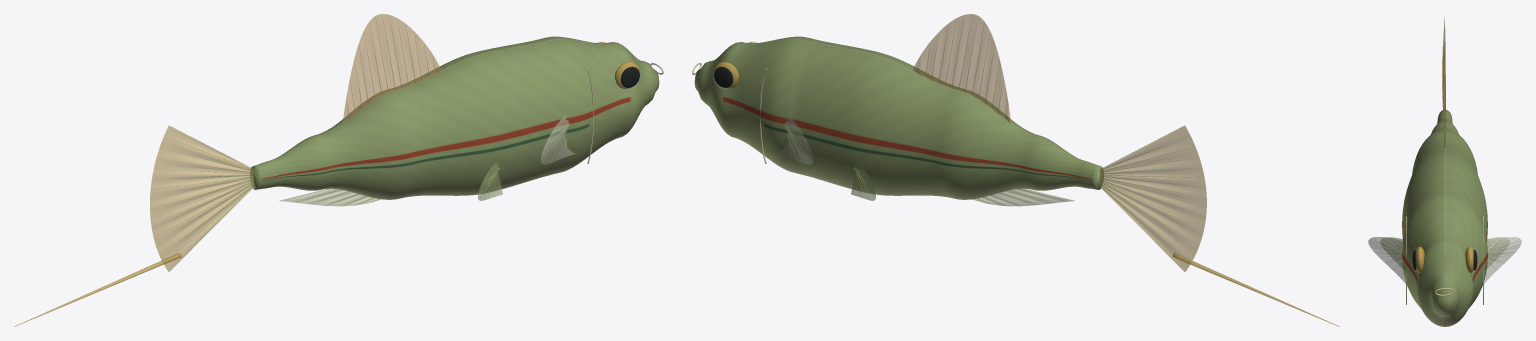
Rendered from swordtail-desktop.glb.
The picture shows the model from 3 angles, left to right: view 1: azimuth 30°, elevation 25°; view 2: azimuth 150°, elevation 25°; view 3: azimuth 270°, elevation 25°; orthographic projection. The views are drawn at different scales.
Visible parts, largest first — view 1: skin, tail, dorsal, dorsal-ray, anal, pectoral-right, sword-extension, pelvic-right; view 2: skin, tail, dorsal, dorsal-ray, anal, pectoral-left, sword-extension, pelvic-left; view 3: skin, pectoral-right, pectoral-left, dorsal-ray, eye-iris--1, pelvic-right, pelvic-left, operculum, tail, eye-pupil--1, dorsal.
Part boxes in pixels (left/top/right/bottom): skin: left=250, top=36, right=659, bottom=199; tail: left=150, top=125, right=253, bottom=271; dorsal: left=343, top=14, right=440, bottom=122; dorsal-ray: left=154, top=14, right=569, bottom=255; anal: left=279, top=188, right=381, bottom=206; pectoral-right: left=541, top=115, right=575, bottom=164; sword-extension: left=14, top=253, right=181, bottom=326; pelvic-right: left=478, top=163, right=502, bottom=200; skin: left=694, top=36, right=1103, bottom=199; tail: left=1100, top=125, right=1206, bottom=271; dorsal: left=913, top=14, right=1010, bottom=122; dorsal-ray: left=784, top=14, right=1206, bottom=253; anal: left=972, top=188, right=1074, bottom=206; pectoral-left: left=778, top=115, right=812, bottom=164; sword-extension: left=1172, top=253, right=1339, bottom=326; pelvic-left: left=851, top=163, right=875, bottom=200; skin: left=1402, top=110, right=1487, bottom=326; pectoral-right: left=1368, top=237, right=1407, bottom=286; pectoral-left: left=1482, top=237, right=1521, bottom=286; dorsal-ray: left=1372, top=33, right=1518, bottom=272; eye-iris--1: left=1416, top=246, right=1473, bottom=273; pelvic-right: left=1380, top=237, right=1402, bottom=268; pelvic-left: left=1487, top=237, right=1509, bottom=268; operculum: left=1406, top=216, right=1483, bottom=304; tail: left=1442, top=16, right=1445, bottom=109; eye-pupil--1: left=1412, top=249, right=1477, bottom=270; dorsal: left=1444, top=58, right=1445, bottom=147.
Size of the model in its own units: 0.7694 by 0.255 by 0.1719.
Materials: 11 (1 with a texture image).
